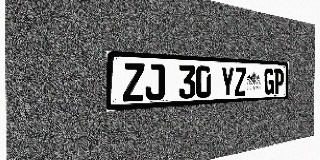0: (196, 65, 211, 98)
3: (179, 65, 195, 99)
G: (264, 68, 274, 95)
J: (145, 63, 165, 101)
P: (274, 69, 284, 94)
Y: (221, 66, 234, 97)
Z: (123, 63, 144, 102), (234, 67, 246, 96)
